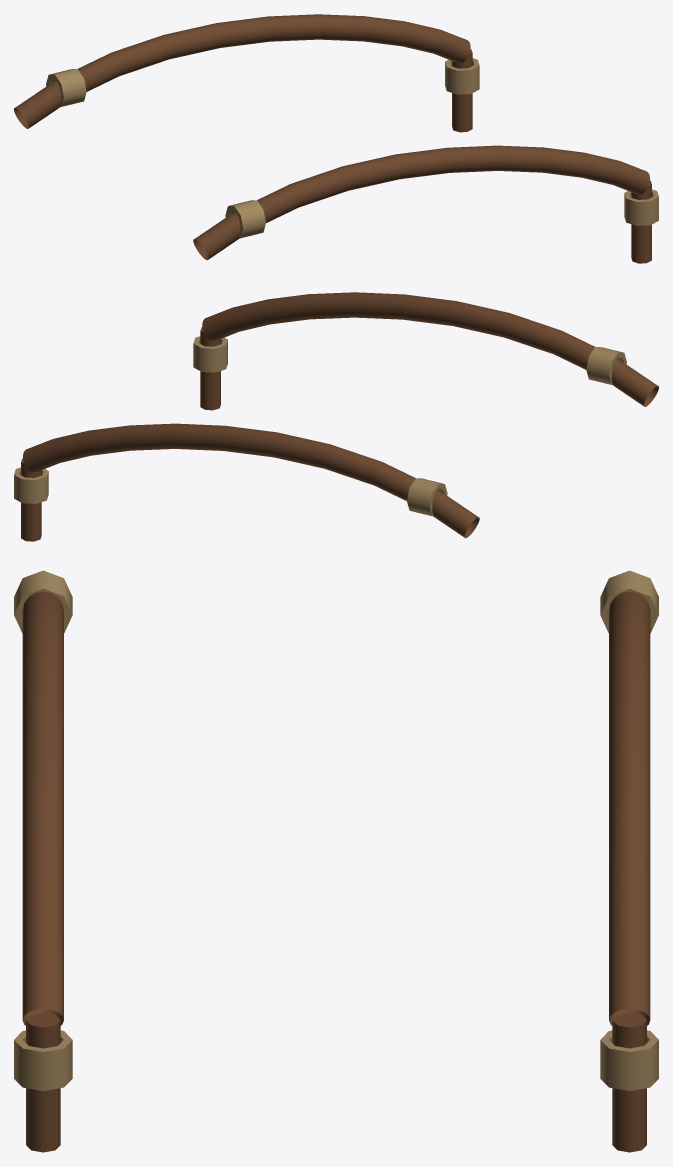
Rendered from k1_iako.obj.
The picture shows the model from 3 angles, top to bottom: view 1: azimuth 30°, elevation 25°; view 2: azimuth 150°, elevation 25°; view 3: azimuth 270°, elevation 25°; orthographic projection. The views are drawn at different scales.
Visible parts, largest first — view 1: k1_iako; view 2: k1_iako; view 3: k1_iako.
Boxes of the visible parts, x1,y1,x2,y2 form: k1_iako: (14, 14, 658, 263); k1_iako: (14, 292, 658, 541); k1_iako: (14, 570, 658, 1152).
Bounding box in the file's own units: 1.01 × 0.3442 × 0.748.
